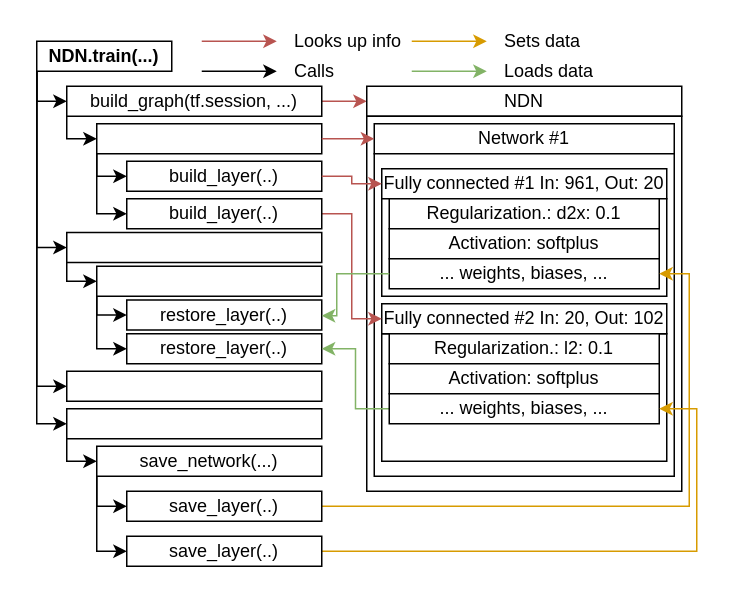
Image size: 735x593. Some labels were removed from this diagram. The shapes that lost their labels are listed below. From the top down, each one's box as (x1, y1, x2, y2) in pixels, then its label:
(95, 122, 322, 154): build_network(...)
(65, 231, 322, 262): restore_params(tf.sesion)
(95, 265, 322, 296): restore_network(...)
(65, 370, 322, 401): train_model(...)
(65, 407, 322, 439): save_params(tf.sesion)
